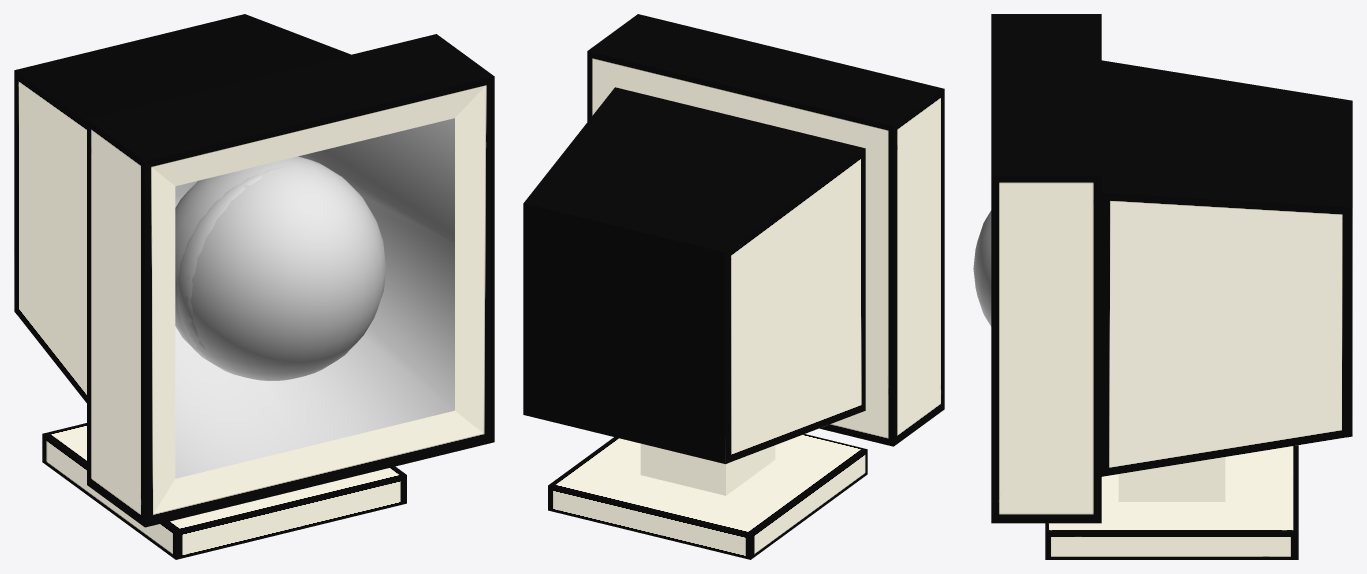
The model's file is FullMonitor.glb.
3 views of the same model, side by side, from view 1: azimuth 30°, elevation 25°; view 2: azimuth 150°, elevation 25°; view 3: azimuth 270°, elevation 25° (orthographic). The views are drawn at different scales.
Parts seen in each view (by area): view 1: Monitor, Depth, Sun, Moon; view 2: Monitor; view 3: Monitor, Sun.
Part boxes in pixels (x1,y1,x2,y2): Monitor: (14, 14, 494, 559); Depth: (175, 118, 454, 478); Sun: (175, 156, 385, 380); Moon: (177, 167, 283, 358); Monitor: (523, 14, 944, 559); Monitor: (991, 14, 1352, 559); Sun: (973, 210, 991, 326).
Bounding box in the file's own units: 2.12 × 2.51 × 2.1.
Materials: 1 (1 with a texture image).
